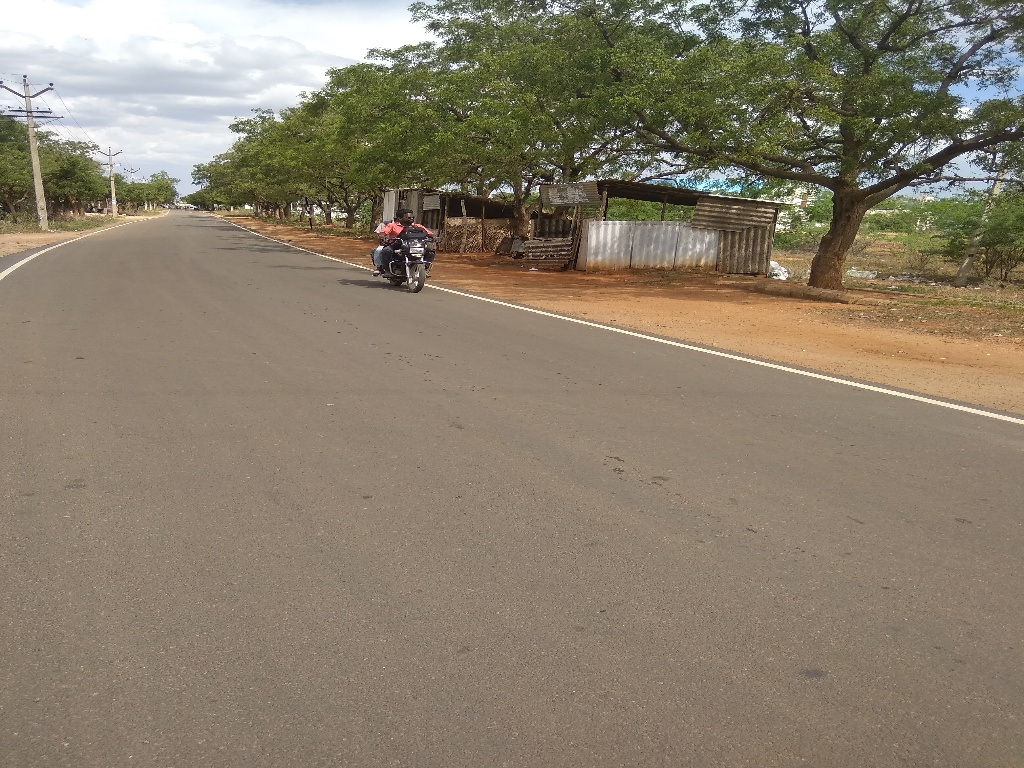biker: (348, 175, 457, 303)
nohelmet: (390, 202, 422, 230)
